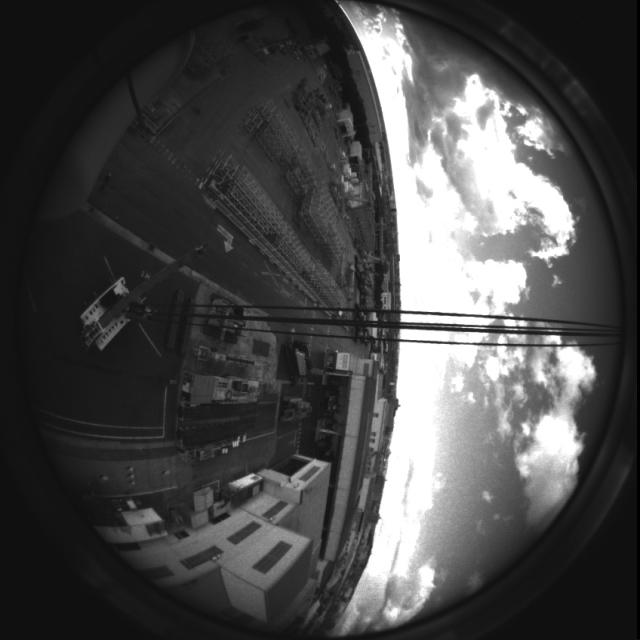rope: (105, 290, 633, 351)
sky: (322, 4, 620, 637)
